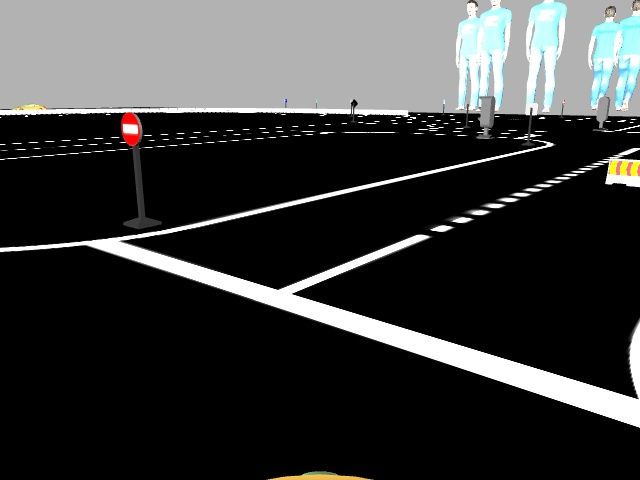ClosedRoadStand: (607, 157, 639, 183)
NoEntry: (119, 114, 142, 147)
